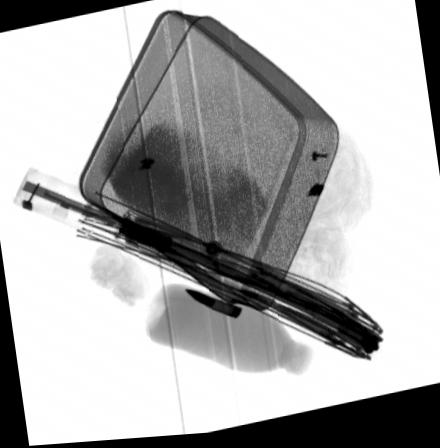Bullet: (181, 291, 242, 324)
